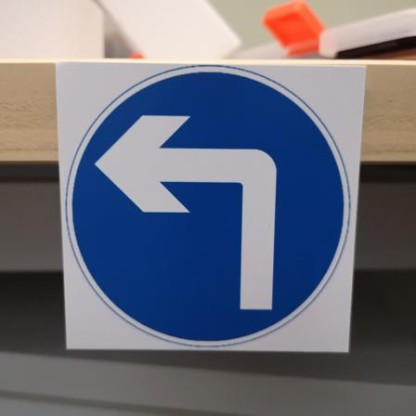left: (37, 50, 369, 363)
